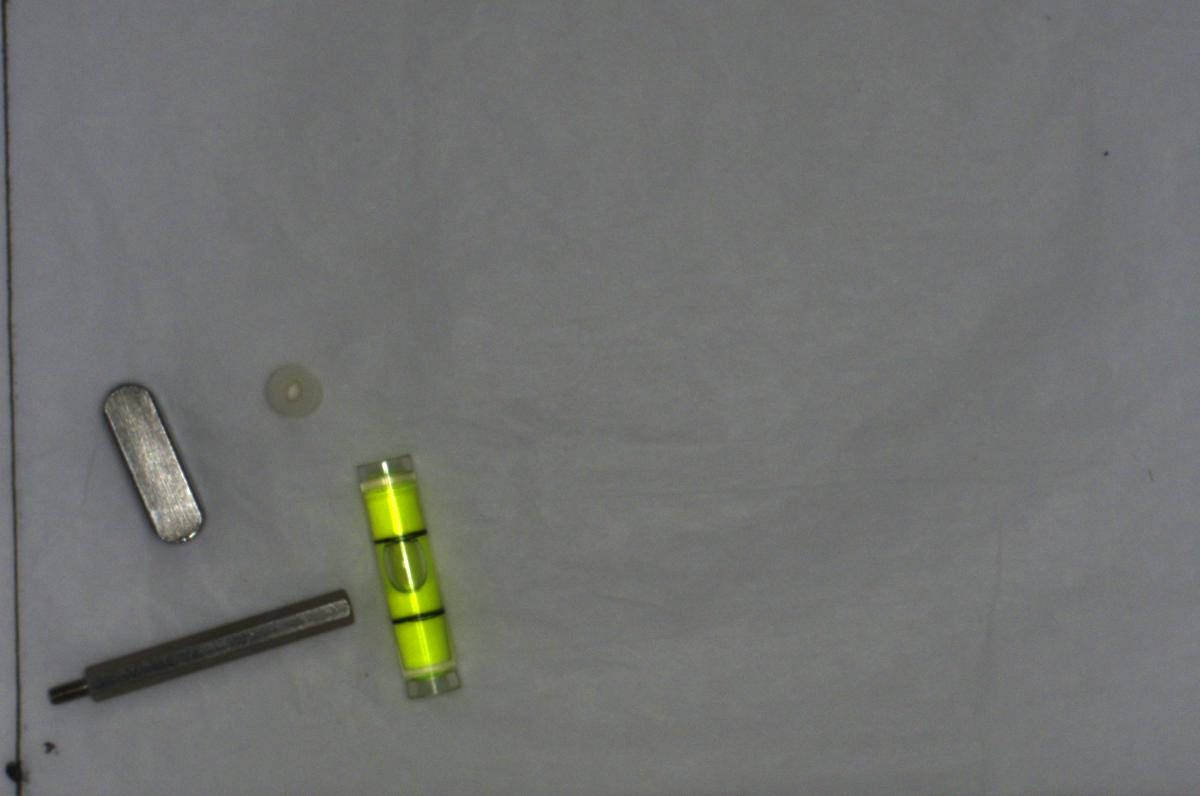Hexagonal steel column: (47, 587, 355, 709)
Horizontal bubble: (351, 443, 462, 702)
Keybar: (94, 375, 206, 550)
Plastic cushion pillar: (258, 360, 326, 422)
